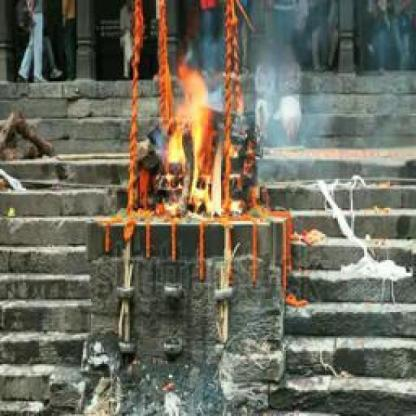fire: (166, 61, 224, 218)
